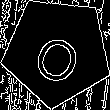O_NE: (27, 19, 87, 83)
